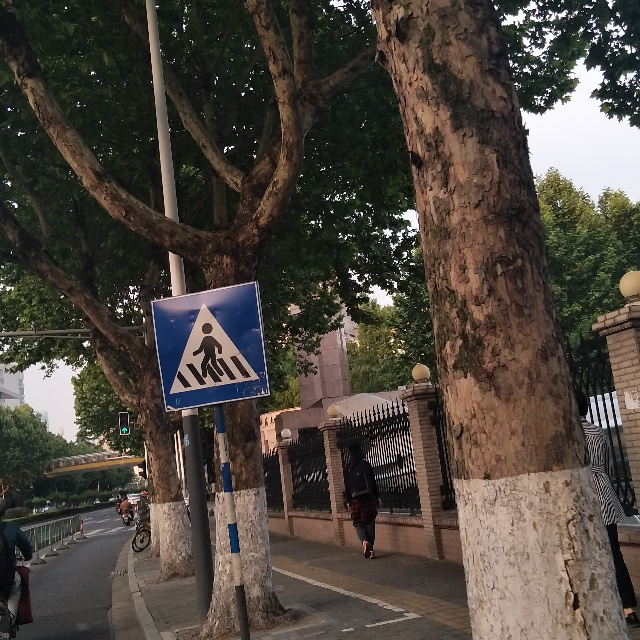crosswalk: (150, 281, 271, 411)
